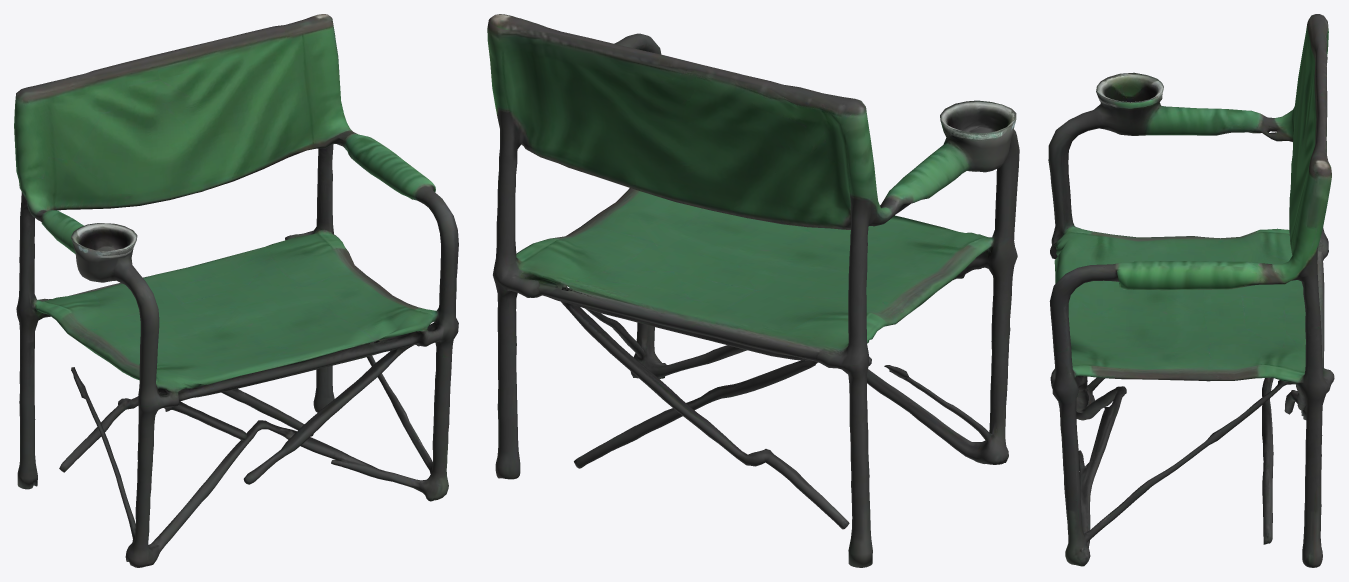
File: camp-chair.glb
The picture shows the model from 3 angles, left to right: view 1: azimuth 30°, elevation 25°; view 2: azimuth 150°, elevation 25°; view 3: azimuth 270°, elevation 25°; orthographic projection. The views are drawn at different scales.
Bounding box in the file's own units: 1.9 × 2 × 1.29.
Materials: 1 (1 with a texture image).
